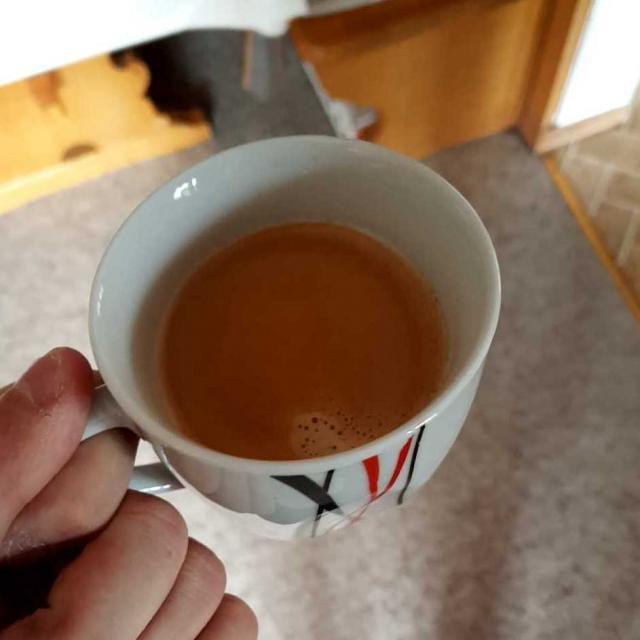coffee: (156, 224, 449, 456)
